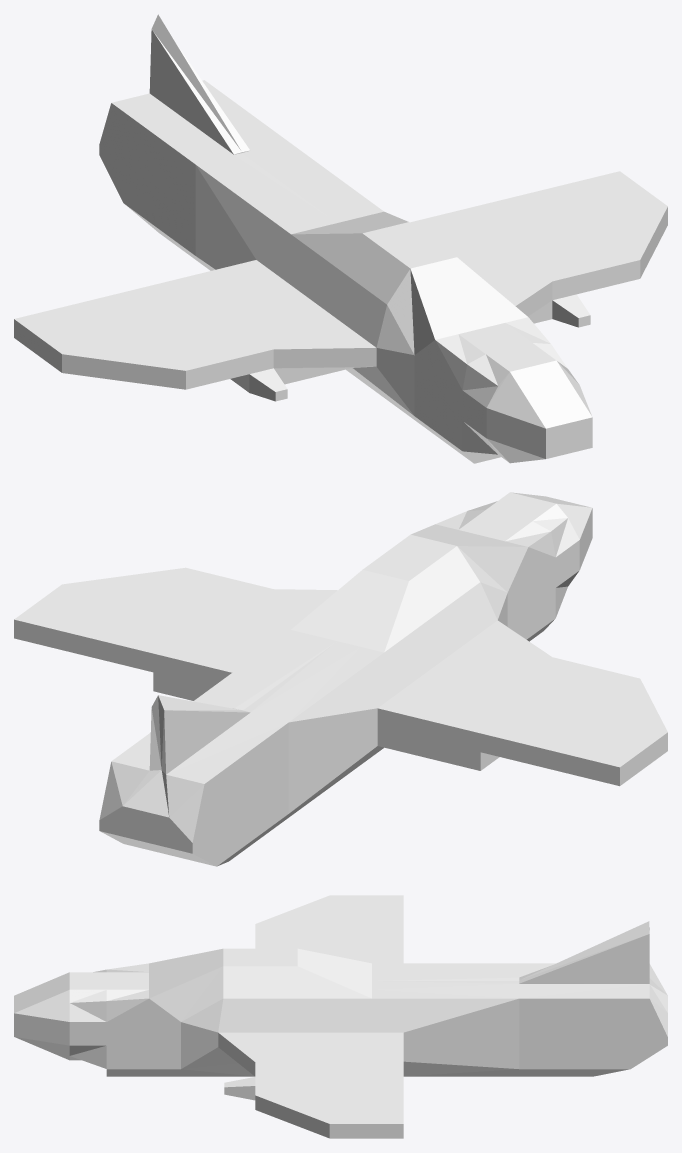
Rendered from Player.obj.
The picture shows the model from 3 angles, top to bottom: view 1: azimuth 30°, elevation 25°; view 2: azimuth 150°, elevation 25°; view 3: azimuth 270°, elevation 25°; orthographic projection. The views are drawn at different scales.
Visible parts, largest first — view 1: Player; view 2: Player; view 3: Player.
Boxes of the visible parts, box(x1,y1,x2,y2) form: Player: box(14, 14, 667, 463); Player: box(14, 492, 667, 866); Player: box(14, 895, 667, 1138).
Size of the model in its own units: 7.28 by 2.11 by 8.81.
1 material, 1 textured.
